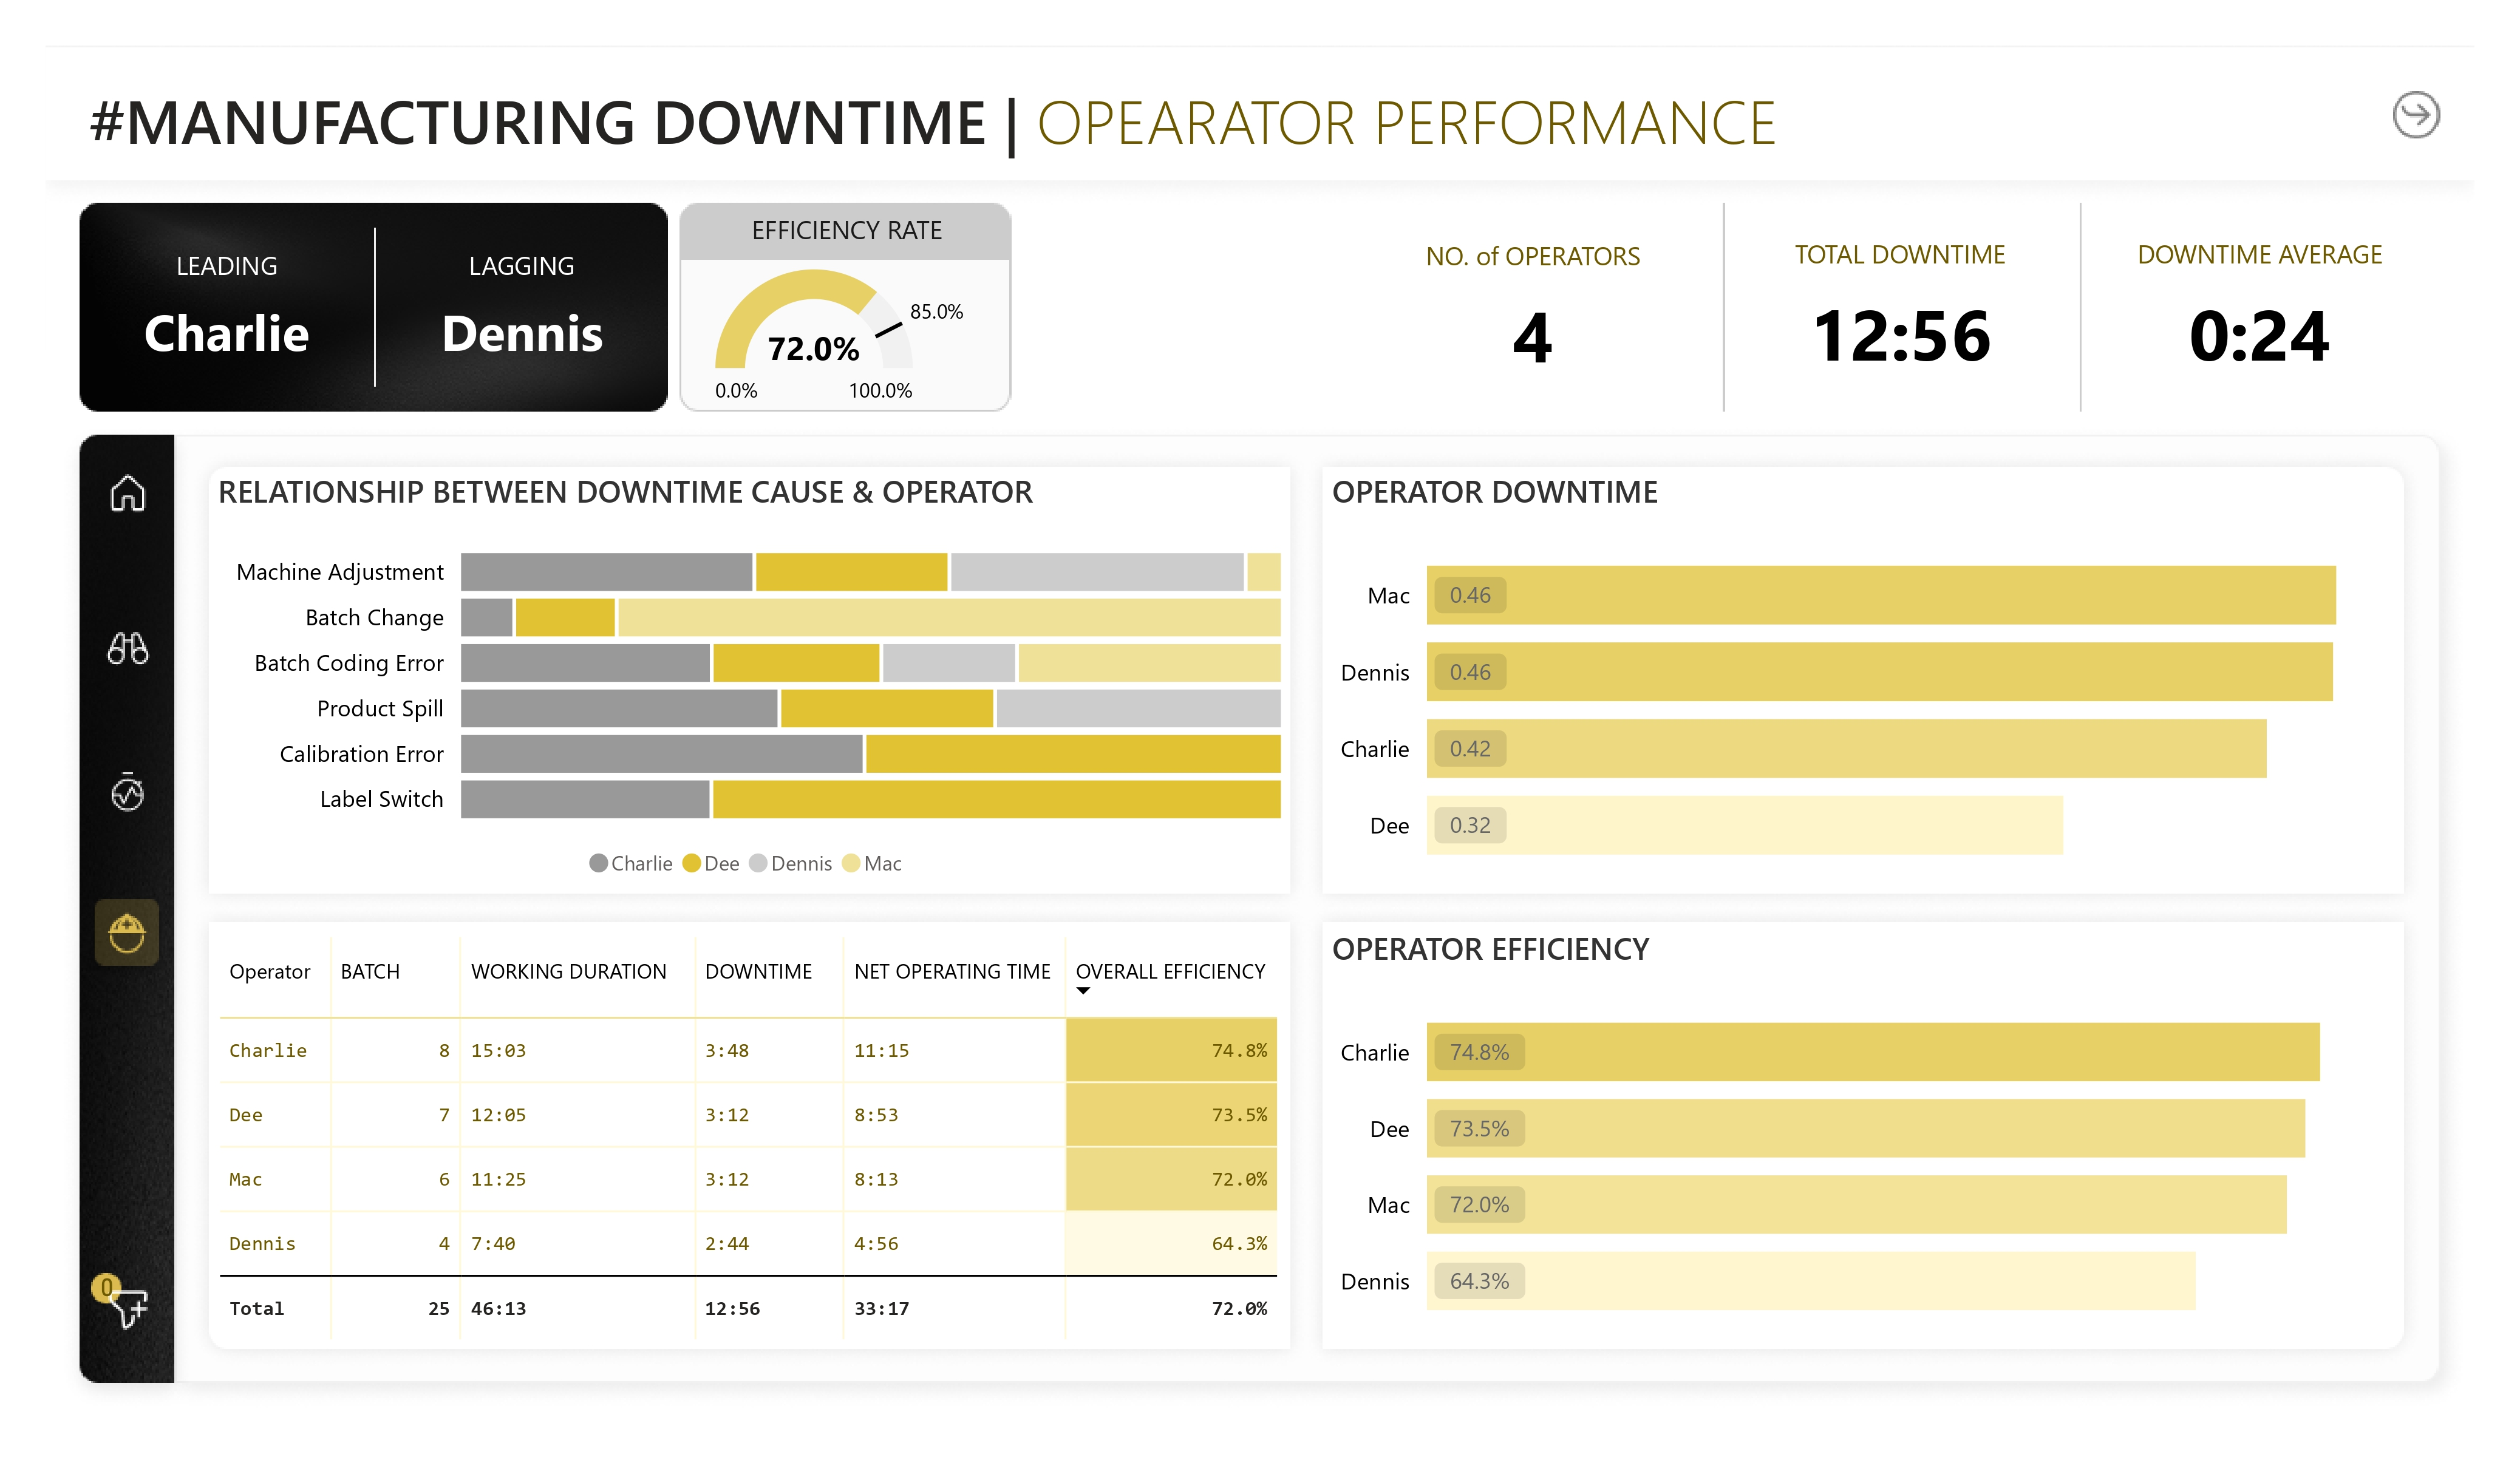

What the dashboard file says about the page in this screenshot:
{"tool":"powerbi","page":{"name":"Operator Performance","canvas":[1280,720],"ordinal":4},"visuals":[{"type":"cardVisual","fields":{"Data":["Min(dOperators.Operator)"]},"box":[17.8,82.6,155,109.8],"z":0},{"type":"card","fields":{"Values":["_Measures.Active Filters"]},"box":[22.2,645.6,19.6,19.5],"z":0,"group":"g1"},{"type":"cardVisual","fields":{"Data":["_Measures.Avg Downtime (H:M)"]},"box":[1072,82.5,189.8,110.8],"z":1000},{"type":"actionButton","box":[18.6,639.4,50,50.5],"z":1000,"group":"g1"},{"type":"cardVisual","fields":{"Data":["Count(dOperators.Operator)"]},"box":[684.5,83.3,198.6,110.8],"z":2000},{"type":"cardVisual","fields":{"Data":["_Measures.Total Downtime (H:M)"]},"box":[883.2,83.3,188.9,110],"z":3000},{"type":"clusteredBarChart","title":"OPERATOR DOWNTIME","fields":{"Category":["dOperators.Operator"],"Y":["_Global Measures.Avg Downtime (H)"]},"box":[673,224.3,570.1,224.3],"z":4000},{"type":"hundredPercentStackedBarChart","title":"RELATIONSHIP BETWEEN DOWNTIME CAUSE & OPERATOR","fields":{"Category":["dDowntimeFactors.Description"],"Series":["dOperators.Operator"],"Y":["_Global Measures.Total Downtime (H)"]},"box":[86,224.3,570,224.3],"z":5000},{"type":"tableEx","fields":{"Values":["dOperators.Operator","fLineProductivity.BatchID","_Measures.Total Production Time (H:M)","_Measures.Total Downtime (H:M)","_Measures.Net Operating Time (H:M)","_Measures.Overall Line Efficiency (%)"]},"box":[86,464.6,570,224],"z":6000},{"type":"clusteredBarChart","title":"OPERATOR EFFICIENCY","fields":{"Category":["dOperators.Operator"],"Y":["_Measures.Overall Line Efficiency (%)"]},"box":[673,464.6,570.1,224.3],"z":7000},{"type":"pageNavigator","box":[17,205,50,305],"z":8000},{"type":"actionButton","box":[17.7,640.2,49.7,50.5],"z":9000},{"type":"actionButton","box":[1224.5,10.6,49.7,50.5],"z":10000},{"type":"textbox","box":[17.7,11.5,916.8,57.6],"z":11000},{"type":"gauge","title":"EFFICIENCY TARGET","fields":{"Y":["_Measures.Overall Line Efficiency (%)"]},"box":[333,113,175,86.9],"z":12000},{"type":"group","id":"g1","title":"Filter Button","box":[18.6,639.4,50,50.5],"z":13000},{"type":"cardVisual","fields":{"Data":["Min(dOperators.Operator)"]},"box":[172.5,82.6,156.9,109.8],"z":14000}]}

Visuals, with their boxes on the page's 1280x720 design canvas (x1, y1, x2, y2). These are canvas units, not pixel positions in the 2520x1457 screenshot, which may show the page scaled, cropped or inside an application window:
cardVisual - Min(dOperators.Operator): detection(18, 83, 173, 192)
card - _Measures.Active Filters: detection(22, 646, 42, 665)
cardVisual - _Measures.Avg Downtime (H:M): detection(1072, 82, 1262, 193)
actionButton: detection(19, 639, 69, 690)
cardVisual - Count(dOperators.Operator): detection(684, 83, 883, 194)
cardVisual - _Measures.Total Downtime (H:M): detection(883, 83, 1072, 193)
"OPERATOR DOWNTIME" clusteredBarChart: detection(673, 224, 1243, 449)
"RELATIONSHIP BETWEEN DOWNTIME CAUSE & OPERATOR" hundredPercentStackedBarChart: detection(86, 224, 656, 449)
tableEx - dOperators.Operator x fLineProductivity.BatchID: detection(86, 465, 656, 689)
"OPERATOR EFFICIENCY" clusteredBarChart: detection(673, 465, 1243, 689)
pageNavigator: detection(17, 205, 67, 510)
actionButton: detection(18, 640, 67, 691)
actionButton: detection(1224, 11, 1274, 61)
textbox: detection(18, 12, 934, 69)
"EFFICIENCY TARGET" gauge: detection(333, 113, 508, 200)
"Filter Button" group: detection(19, 639, 69, 690)
cardVisual - Min(dOperators.Operator): detection(172, 83, 329, 192)
